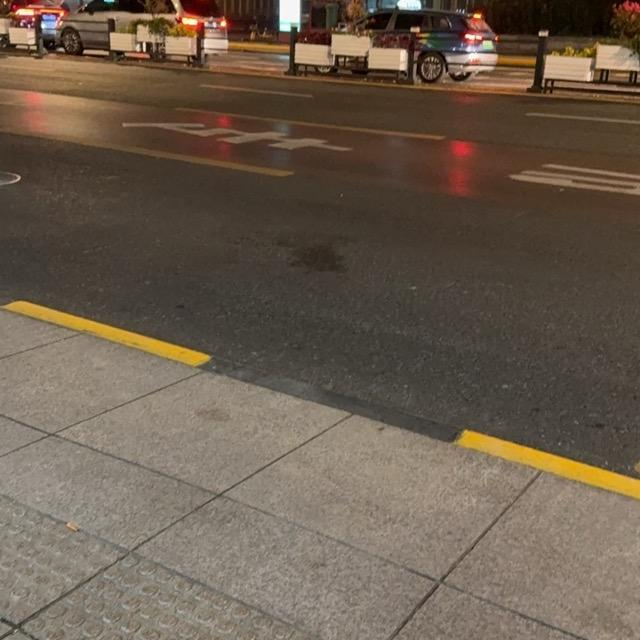curb: (0, 300, 639, 499), (229, 42, 288, 54), (499, 54, 530, 68)
